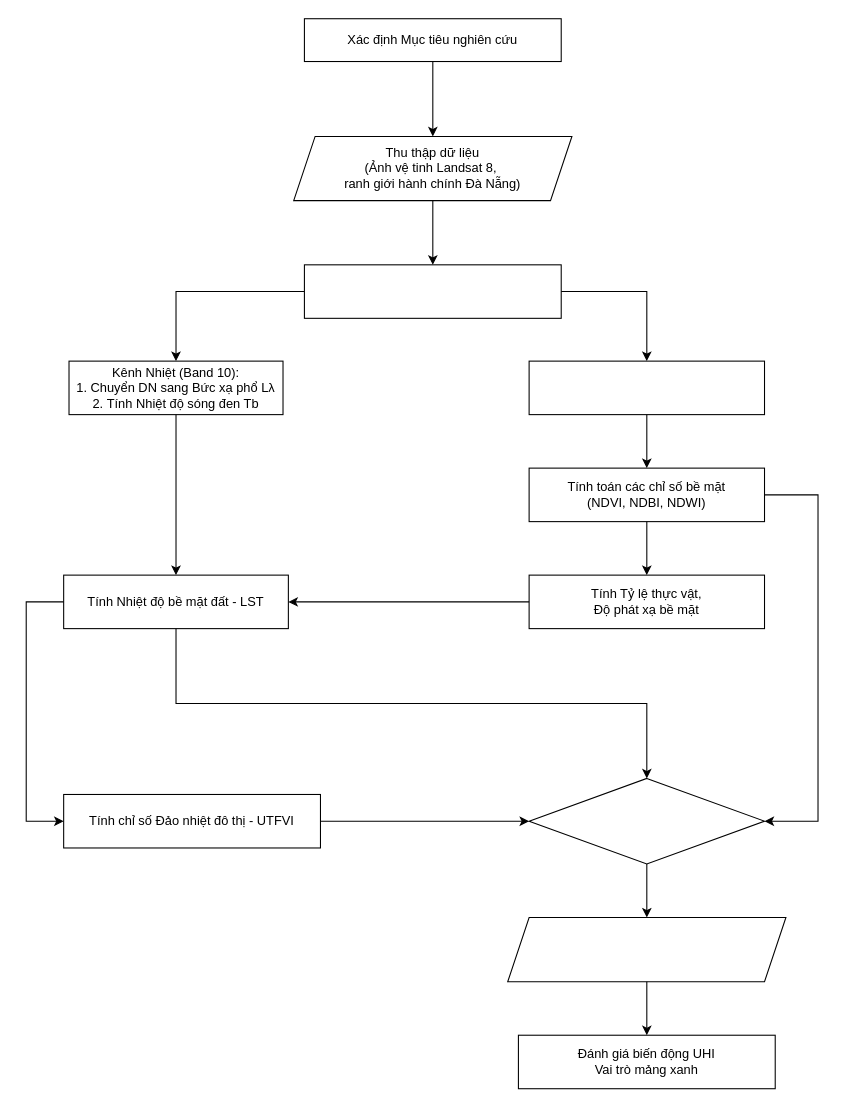
Some shapes in this 845 by 1107 pixel diagram are drawn without their labels. The centre of each missing label's shape, as x and y in pixels:
"Kênh Quang học: Band 3, 4, 5, 6" goes at (x=646, y=387).
"Phân tích tương quan Hồi quy tuyến tính" goes at (x=646, y=820).
"Thành lập Bản đồ chuyên đề Biểu đồ tương quan" goes at (x=646, y=949).
"Tiền xử lý ảnh (Hiệu chỉnh, Cắt ảnh, Lọc Median,...)" goes at (x=432, y=291).
